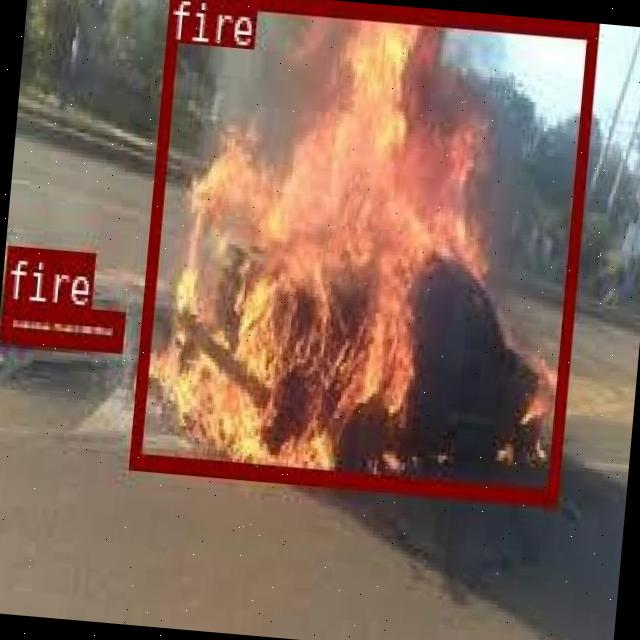fire: (127, 0, 595, 500), (0, 299, 122, 347)
